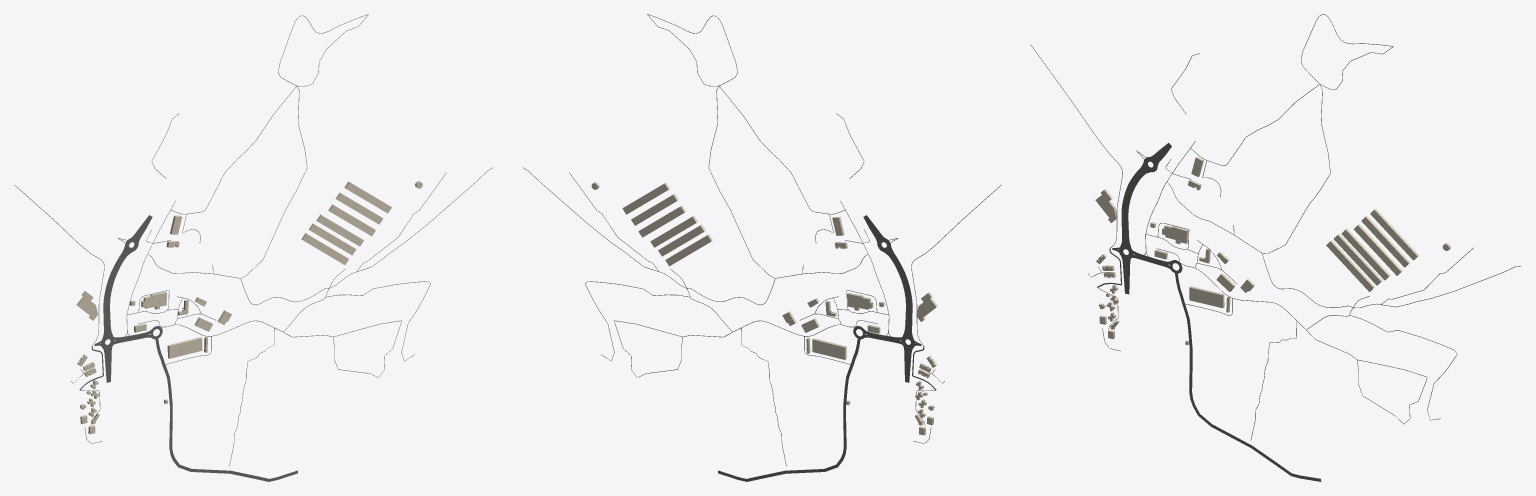
Rendered from historic-palestine-14_33_3564_3278.glb.
The picture shows the model from 3 angles, left to right: view 1: azimuth 30°, elevation 25°; view 2: azimuth 150°, elevation 25°; view 3: azimuth 330°, elevation 25°; orthographic projection. The views are drawn at different scales.
Visible parts, largest first — view 1: Road 7891, Building_.007; view 2: Road 7891, Building_.007; view 3: Road 7891, Building_.025, Building_.023, Building_.022, Building_.024, Building_.026, Building_.027, Building_.007.
Part boxes in pixels (left/top/right/bottom): Road 7891: left=155, top=337, right=297, bottom=481; Building_.007: left=167, top=337, right=202, bottom=358; Road 7891: left=718, top=337, right=860, bottom=481; Building_.007: left=812, top=338, right=846, bottom=359; Road 7891: left=1174, top=272, right=1321, bottom=481; Building_.025: left=1341, top=228, right=1390, bottom=280; Building_.023: left=1361, top=216, right=1410, bottom=267; Building_.022: left=1370, top=208, right=1418, bottom=260; Building_.024: left=1354, top=224, right=1402, bottom=275; Building_.026: left=1334, top=234, right=1382, bottom=285; Building_.027: left=1326, top=240, right=1374, bottom=291; Building_.007: left=1189, top=286, right=1224, bottom=308.
Bounding box in the file's own units: 1342 × 1228 × 8.7.
